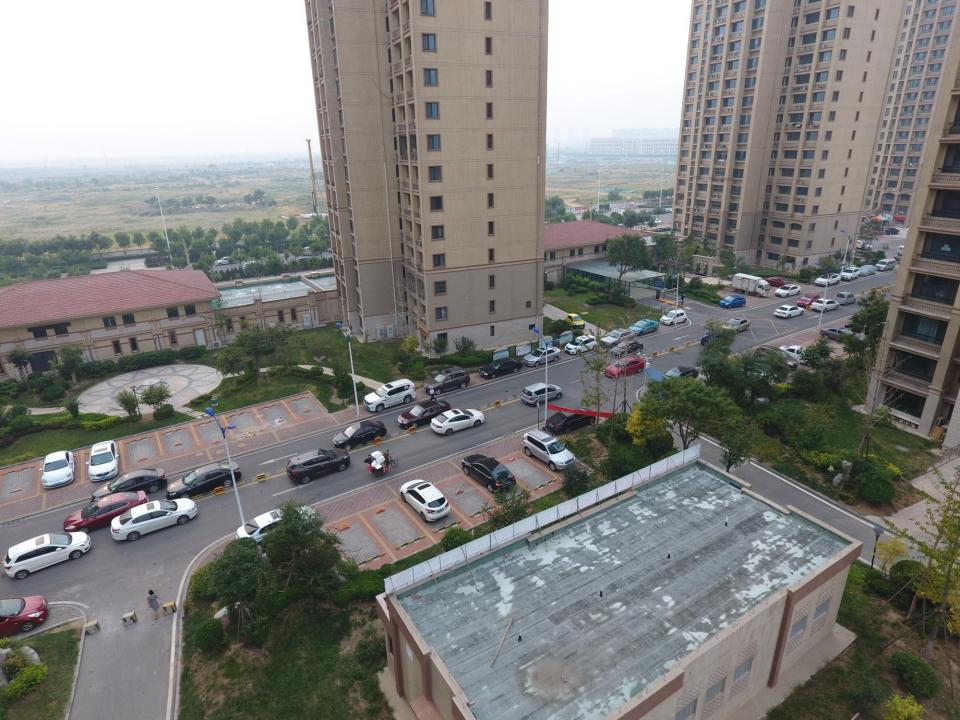car: (63, 490, 149, 534), (110, 498, 198, 541), (236, 506, 316, 549), (90, 468, 167, 508), (166, 461, 242, 500), (461, 454, 516, 493), (0, 596, 49, 639), (332, 420, 387, 450), (397, 400, 451, 429), (430, 408, 484, 436), (85, 441, 120, 481), (545, 407, 596, 434), (39, 451, 75, 488), (728, 366, 782, 387), (656, 366, 699, 391), (740, 357, 789, 378), (779, 345, 824, 367), (479, 357, 523, 379), (820, 326, 865, 346), (604, 356, 645, 377), (523, 346, 561, 366), (845, 319, 887, 337), (599, 328, 636, 348), (610, 340, 643, 358), (629, 319, 659, 336), (721, 317, 751, 334), (774, 304, 804, 319), (810, 298, 840, 312), (765, 276, 795, 290), (565, 313, 585, 330), (775, 284, 801, 297), (214, 256, 239, 266), (857, 265, 877, 276), (894, 253, 911, 263), (328, 246, 346, 253), (651, 218, 662, 226)
truck: (732, 273, 772, 297)
van: (4, 531, 91, 579), (286, 448, 350, 484), (522, 429, 576, 471), (399, 479, 451, 522), (363, 378, 416, 413), (423, 367, 470, 395), (752, 345, 799, 371), (521, 382, 563, 407), (565, 334, 598, 354), (701, 330, 730, 347), (660, 309, 687, 326), (797, 292, 821, 308), (719, 294, 746, 308), (814, 273, 840, 287), (834, 291, 856, 306), (839, 267, 860, 281), (875, 258, 896, 272), (241, 260, 264, 272), (897, 245, 915, 258), (855, 240, 873, 251), (298, 247, 320, 256), (296, 257, 316, 265), (882, 227, 900, 235)
